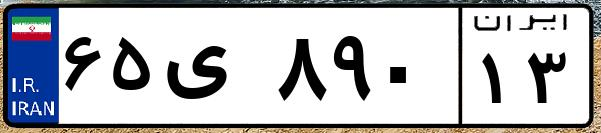0: (385, 28, 445, 110)
1: (475, 38, 525, 113)
3: (525, 38, 570, 115)
5: (110, 28, 158, 98)
6: (57, 26, 110, 100)
8: (270, 28, 330, 110)
9: (330, 28, 385, 110)
ی: (158, 20, 270, 120)
